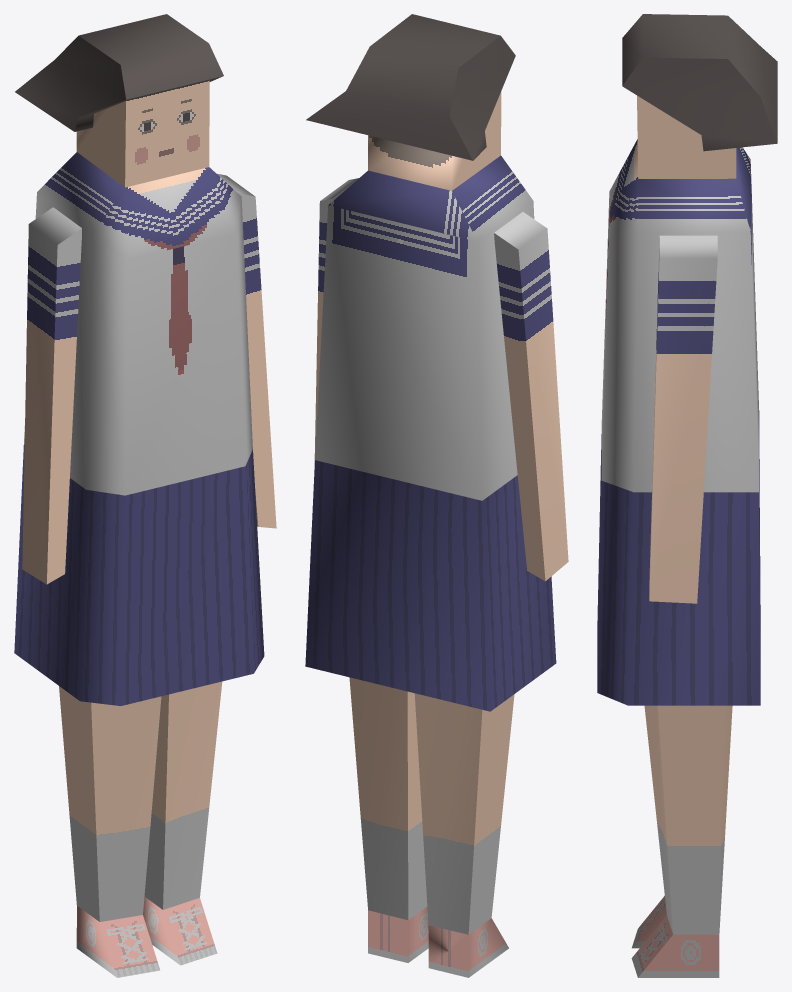
The model's file is 057c_Summer_Skinny.glb.
The picture shows the model from 3 angles, left to right: view 1: azimuth 30°, elevation 25°; view 2: azimuth 150°, elevation 25°; view 3: azimuth 270°, elevation 25°; orthographic projection.
Parts seen in each view (by area): view 1: part_0; view 2: part_0; view 3: part_0.
Boxes of the visible parts, <box> form: part_0: <box>14,14,276,977</box>; part_0: <box>305,14,568,977</box>; part_0: <box>597,14,777,977</box>.
Size of the model in its own units: 0.4774 by 1.79 by 0.3196.
Materials: 1 (1 with a texture image).
